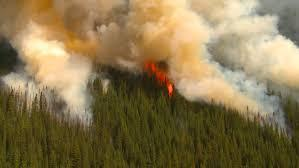fire: (141, 56, 174, 96)
smoke: (3, 0, 283, 84), (176, 1, 296, 135), (0, 1, 99, 124)
